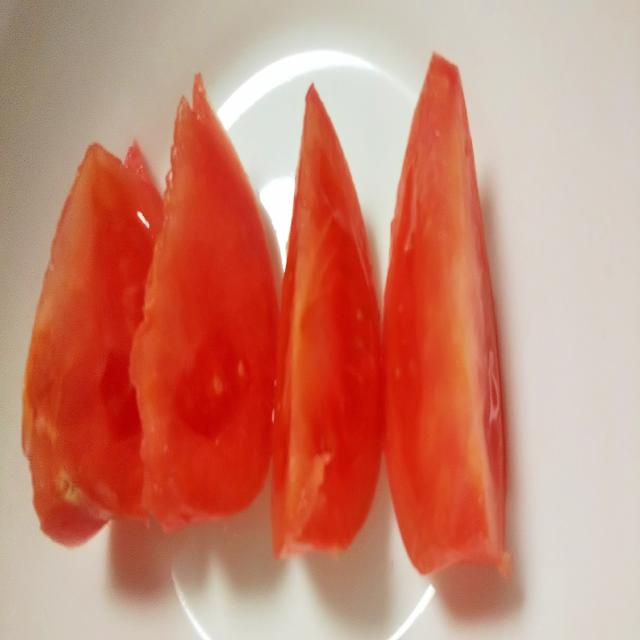Tomato: (380, 46, 515, 580), (127, 62, 277, 540), (18, 132, 165, 550), (268, 66, 382, 568)
